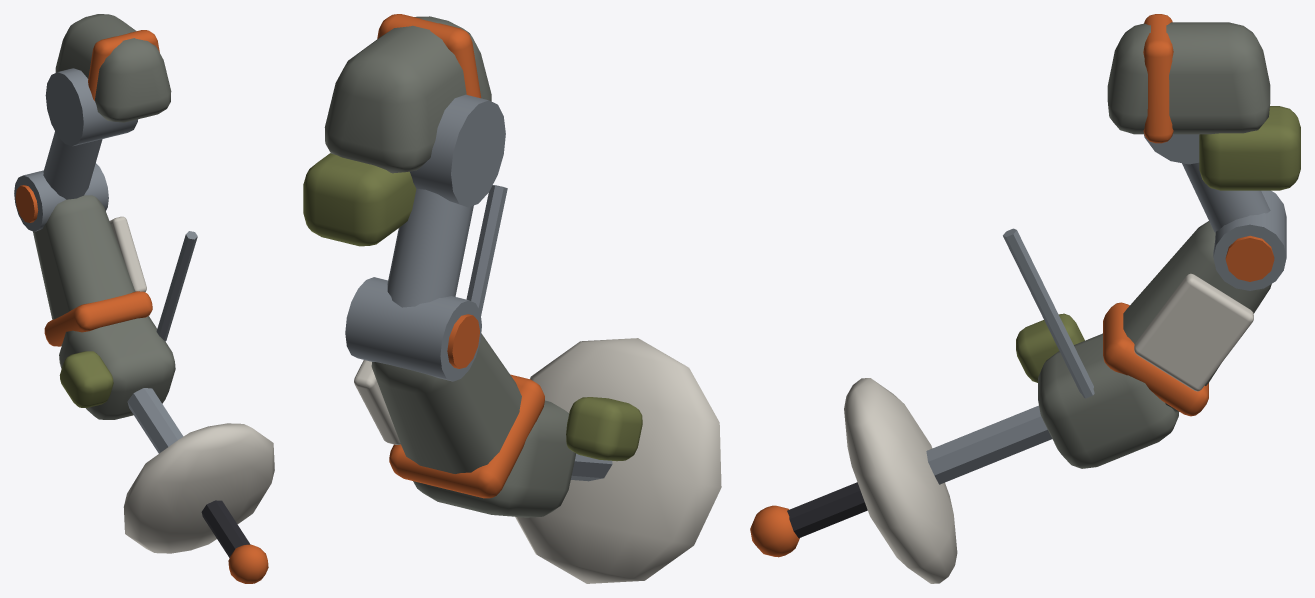
File: ar_scanner.glb
3 views of the same model, side by side, from view 1: azimuth 30°, elevation 25°; view 2: azimuth 150°, elevation 25°; view 3: azimuth 270°, elevation 25° (orthographic). The views are drawn at different scales.
Visible parts, largest first — view 1: ar_scanner; view 2: ar_scanner; view 3: ar_scanner.
Part boxes in pixels (x1,y1,x2,y2): ar_scanner: [14, 14, 274, 583]; ar_scanner: [303, 14, 721, 583]; ar_scanner: [750, 14, 1300, 583].
Bounding box in the file's own units: 0.1871 × 0.5246 × 0.4661.
